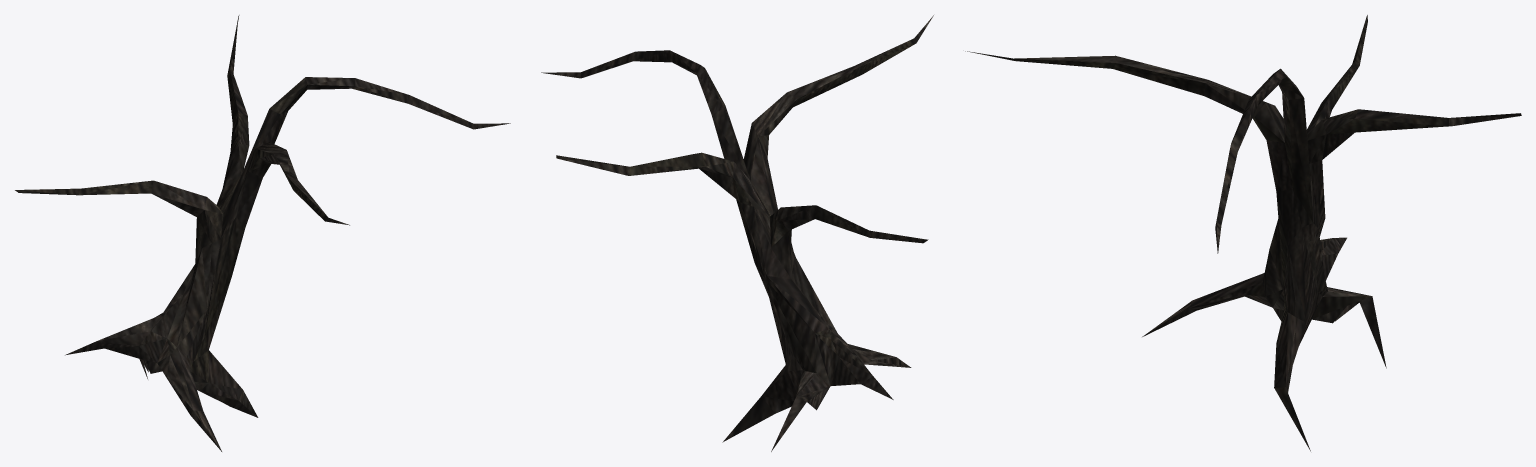
The model's file is OldTrunk.fbx.
3 views of the same model, side by side, from view 1: azimuth 30°, elevation 25°; view 2: azimuth 150°, elevation 25°; view 3: azimuth 270°, elevation 25° (orthographic). The views are drawn at different scales.
Parts seen in each view (by area): view 1: Mesh Object; view 2: Mesh Object; view 3: Mesh Object.
Part boxes in pixels (x1,y1,x2,y2): Mesh Object: (15, 15, 510, 451); Mesh Object: (541, 15, 933, 451); Mesh Object: (965, 15, 1521, 451).
Size of the model in its own units: 15.15 by 11.43 by 14.32.
1 material, 1 textured.
